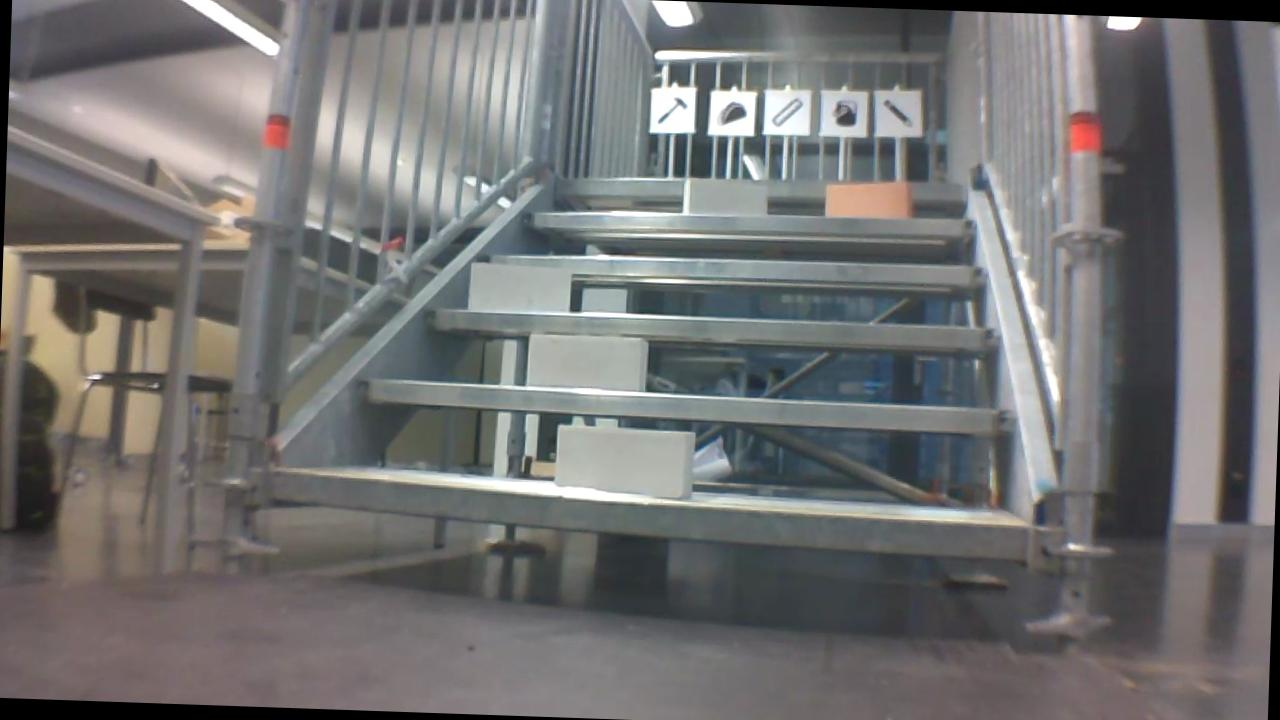brick: (554, 424, 692, 498), (525, 334, 647, 394), (467, 263, 569, 310), (681, 178, 764, 213), (827, 182, 910, 217)
bucket: (828, 97, 859, 130)
edge: (268, 469, 1030, 556), (359, 379, 1015, 433), (423, 307, 996, 350), (481, 250, 991, 286), (518, 204, 973, 239), (561, 168, 964, 201)
hammer: (648, 89, 692, 129)
pencil: (877, 95, 916, 128)
ruler: (769, 93, 803, 130)
steps: (261, 154, 1050, 565)
taco: (714, 97, 750, 128)
